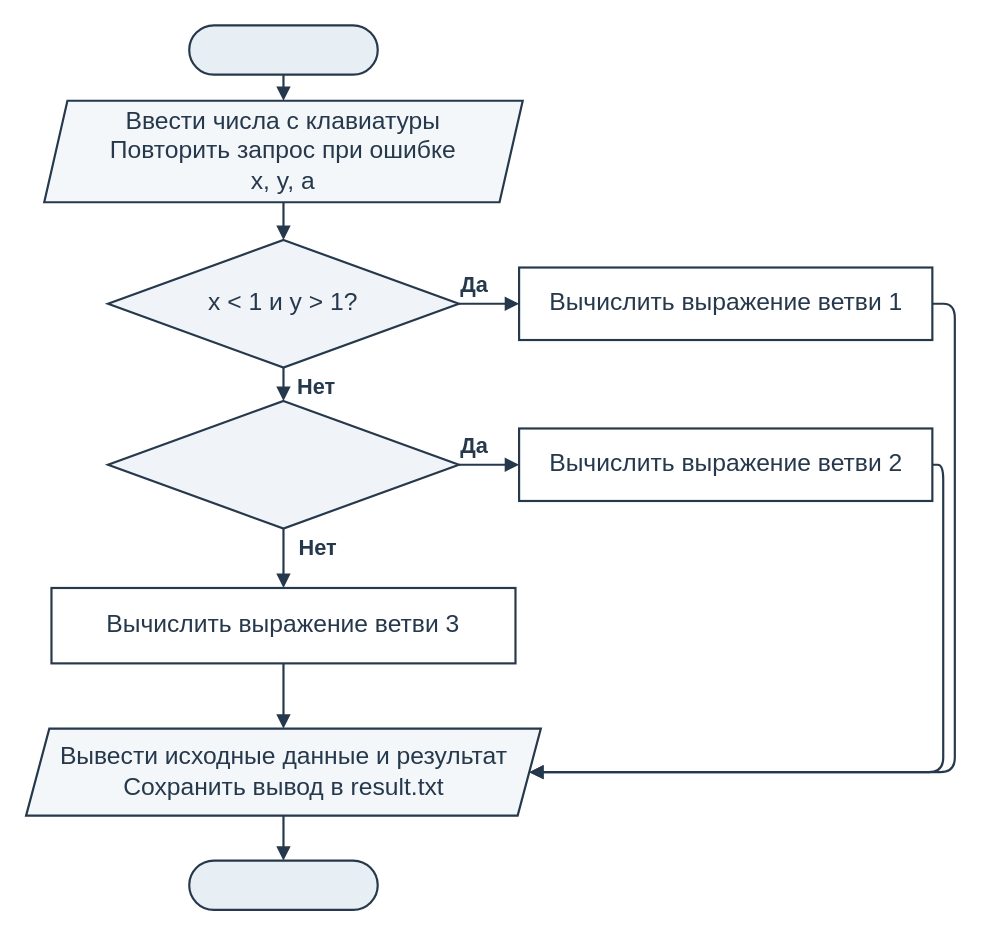
Image size: 992x937. Some labels were removed from this diagram. The centre of each missing label's shape, as x and y in pixels:
"x > 1 и y > 1?" belongs at (282,464).
"Конец" belongs at (282,884).
"Начало" belongs at (282,49).
